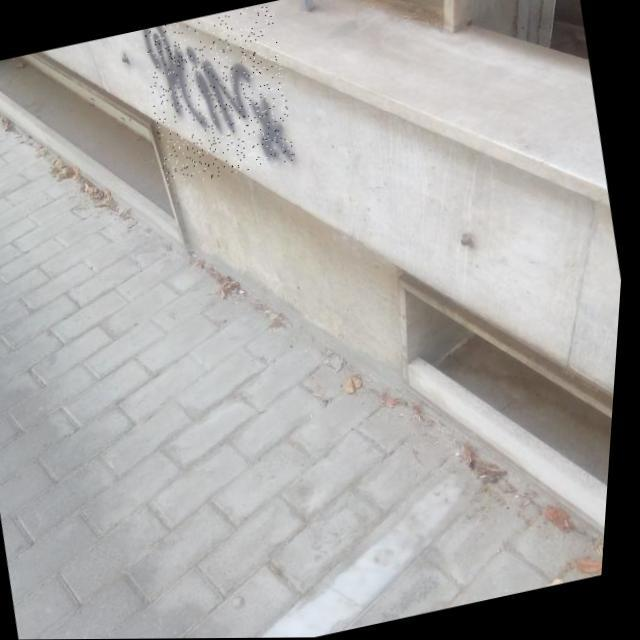-: (134, 1, 306, 188)
